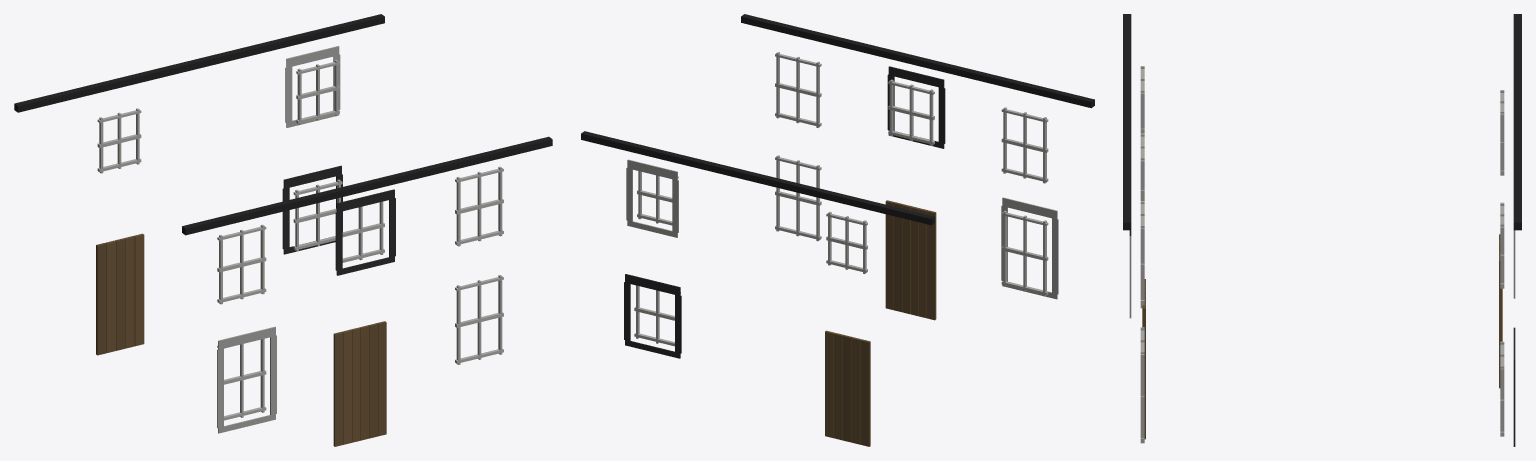
File: SM_Bld_014_Wood.glb
3 renders of one model, left to right at view 1: azimuth 30°, elevation 25°; view 2: azimuth 150°, elevation 25°; view 3: azimuth 270°, elevation 25°, orthographic. The views are drawn at different scales.
Parts seen in each view (by area): view 1: SM_Bld_014_Wood; view 2: SM_Bld_014_Wood; view 3: SM_Bld_014_Wood.
Boxes of the visible parts, <box> form: SM_Bld_014_Wood: <box>14,14,552,446</box>; SM_Bld_014_Wood: <box>581,14,1094,446</box>; SM_Bld_014_Wood: <box>1123,14,1521,446</box>.
Bounding box in the file's own units: 7.02 × 4.8 × 5.67.
